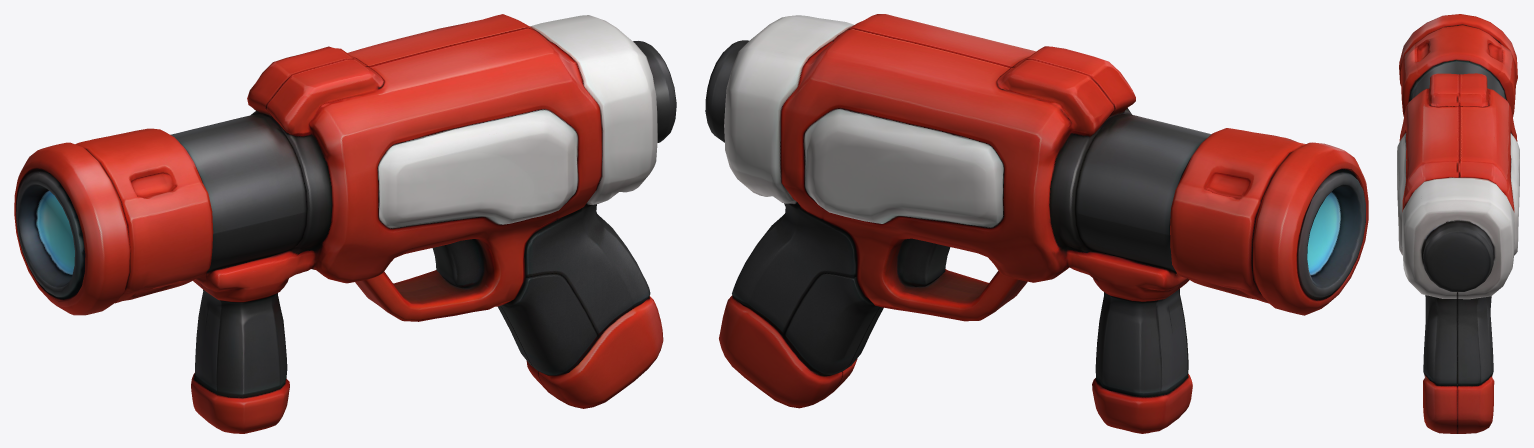
File: ray+gun+3d+model.fbx
3 renders of one model, left to right at view 1: azimuth 30°, elevation 25°; view 2: azimuth 150°, elevation 25°; view 3: azimuth 270°, elevation 25°, orthographic. The views are drawn at different scales.
Parts seen in each view (by area): view 1: tripo_node_88ec6e33; view 2: tripo_node_88ec6e33; view 3: tripo_node_88ec6e33.
Boxes of the visible parts, x1=… form: tripo_node_88ec6e33: x1=14, y1=14, x2=676, y2=433; tripo_node_88ec6e33: x1=705, y1=14, x2=1368, y2=433; tripo_node_88ec6e33: x1=1397, y1=14, x2=1519, y2=433.
Bounding box in the file's own units: 97.76 × 60.34 × 25.29.
